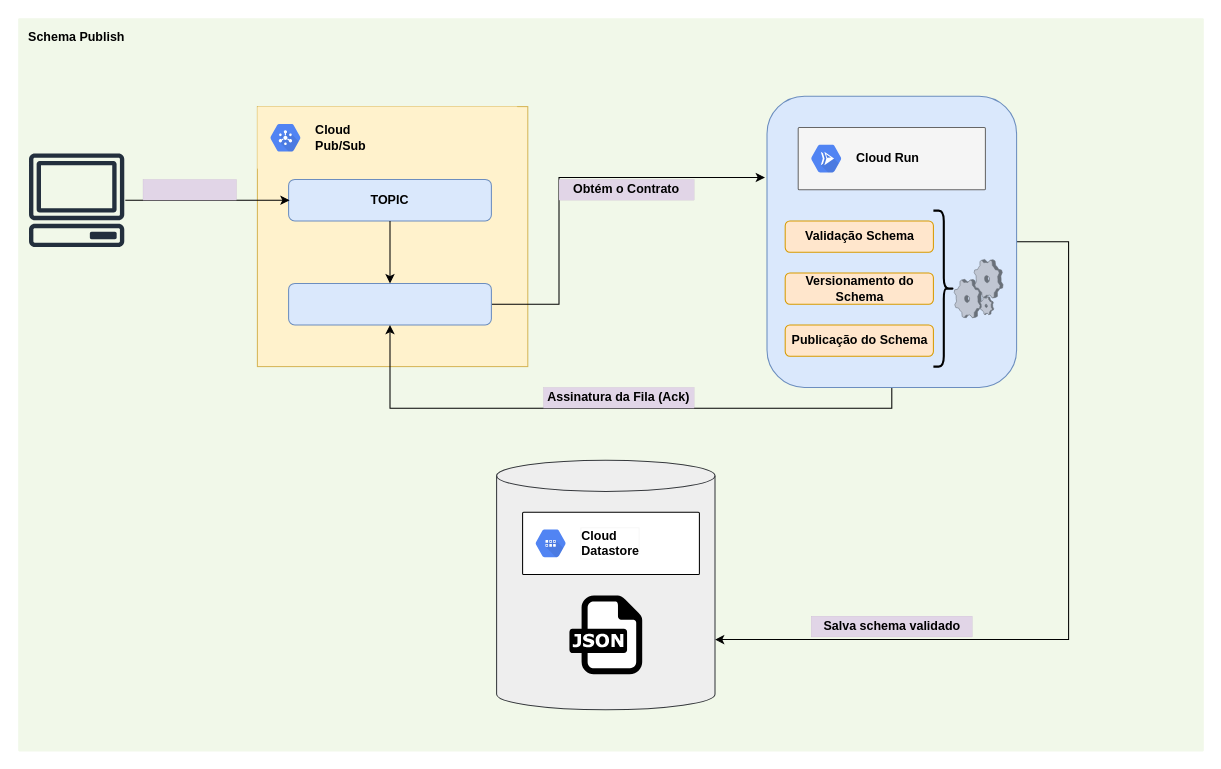
The diagram is 1221 pixels wide and 769 high, and some of its shapes have lost their labels. The shapes that lost their labels are listed below. From the top down, each one's centre as x and y in pixels, then its label:
At point (189, 189): "Envia Contrato".
At point (389, 303): "SUBSCRIPTION".
